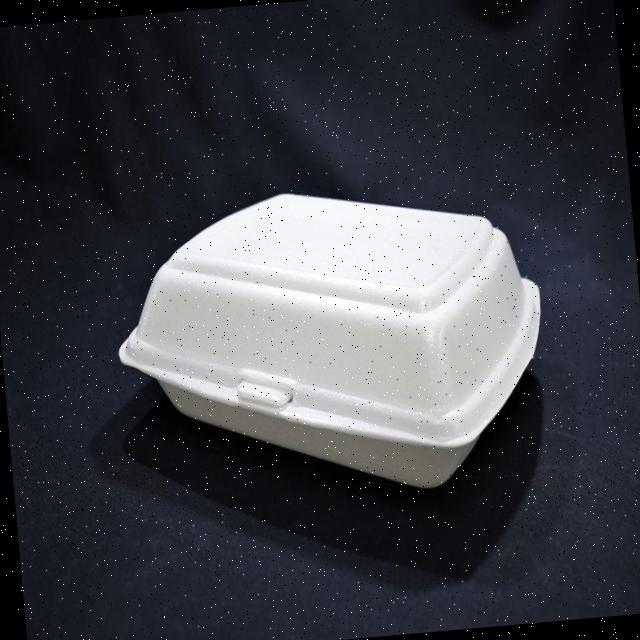styrofoam: (104, 167, 556, 515)
